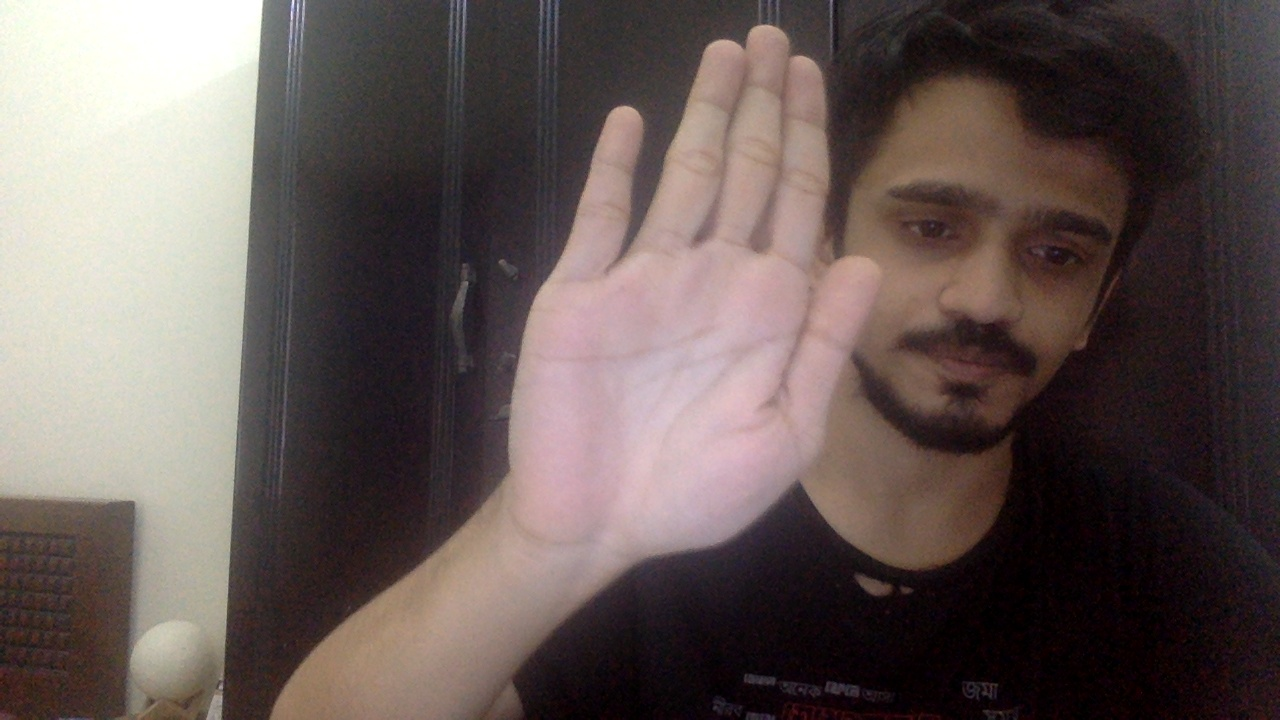stop: (506, 23, 883, 561)
